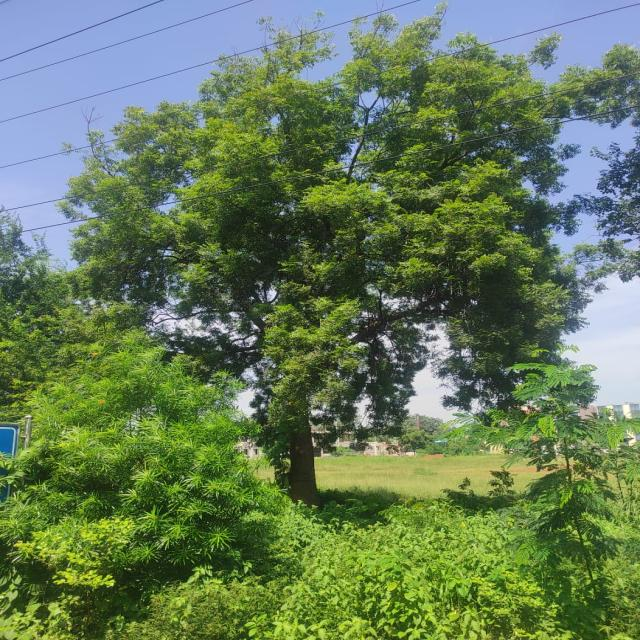Neem Tree: (114, 1, 609, 434)
